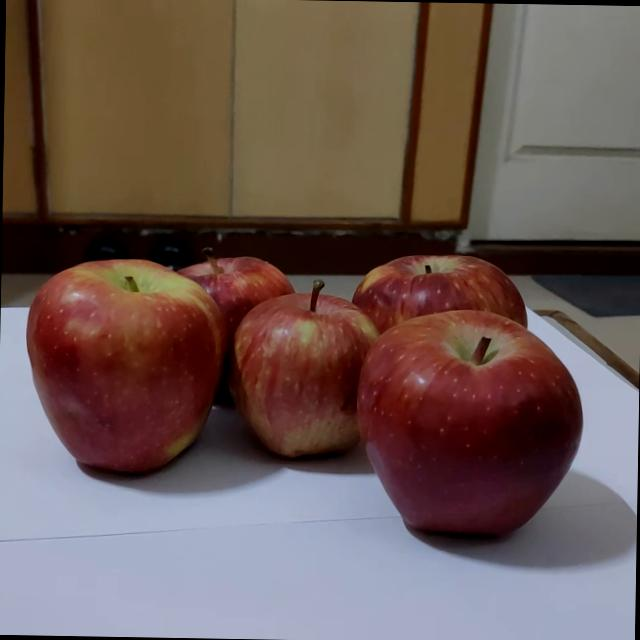apple: (316, 339, 554, 592), (374, 248, 572, 438), (39, 280, 228, 478), (219, 303, 388, 472), (198, 242, 342, 382)
